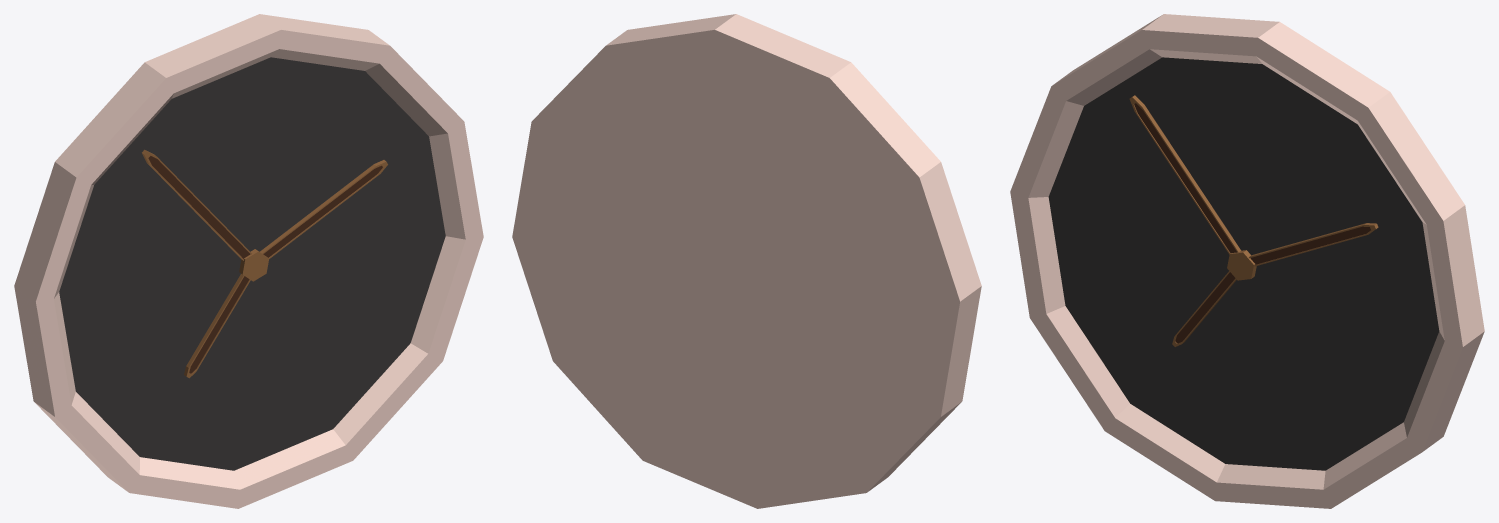
File: FurnAcc_ClockWall.fbx
The picture shows the model from 3 angles, left to right: view 1: azimuth 30°, elevation 25°; view 2: azimuth 150°, elevation 25°; view 3: azimuth 330°, elevation 25°; orthographic projection.
Visible parts, largest first — view 1: FurnAcc_ClockWall; view 2: FurnAcc_ClockWall; view 3: FurnAcc_ClockWall.
Boxes of the visible parts, x1,y1,x2,y2 form: FurnAcc_ClockWall: [14, 14, 483, 508]; FurnAcc_ClockWall: [512, 14, 981, 508]; FurnAcc_ClockWall: [1010, 14, 1484, 508].
Bounding box in the file's own units: 31.86 × 31.86 × 2.66.
